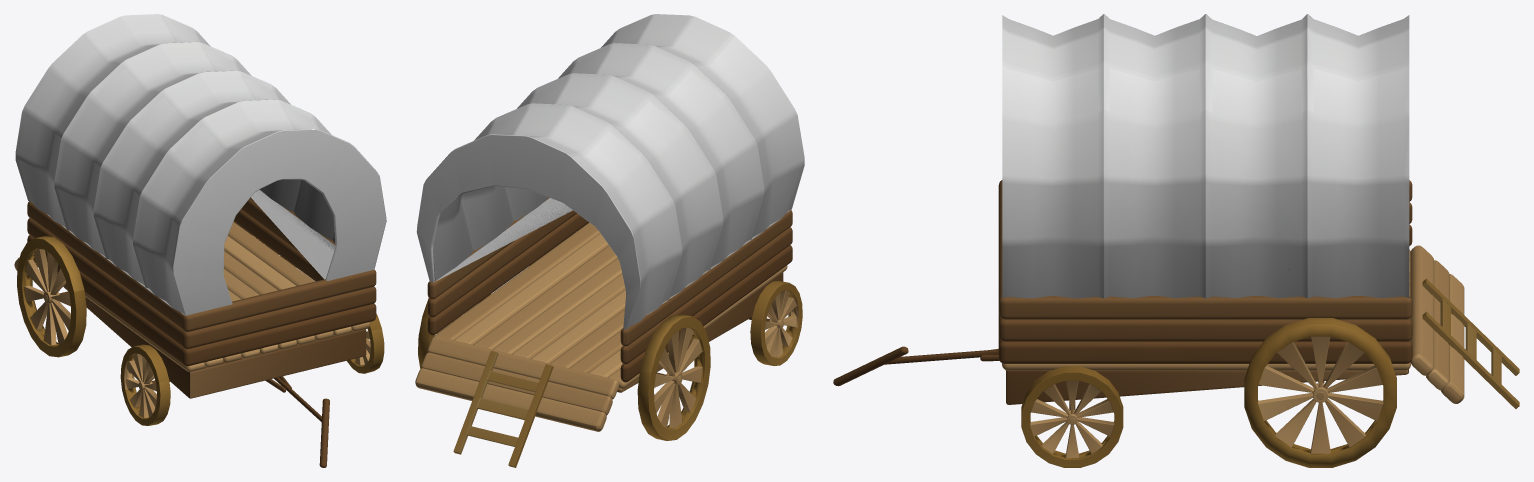
The model's file is wagon.fbx.
The picture shows the model from 3 angles, left to right: view 1: azimuth 30°, elevation 25°; view 2: azimuth 150°, elevation 25°; view 3: azimuth 270°, elevation 25°; orthographic projection. The views are drawn at different scales.
Visible parts, largest first — view 1: pCylinder10; view 2: pCylinder10; view 3: pCylinder10.
Boxes of the visible parts, <box> form: pCylinder10: <box>14,14,386,467</box>; pCylinder10: <box>415,14,804,467</box>; pCylinder10: <box>833,14,1519,467</box>.
Bounding box in the file's own units: 1.64 × 1.97 × 3.3.
